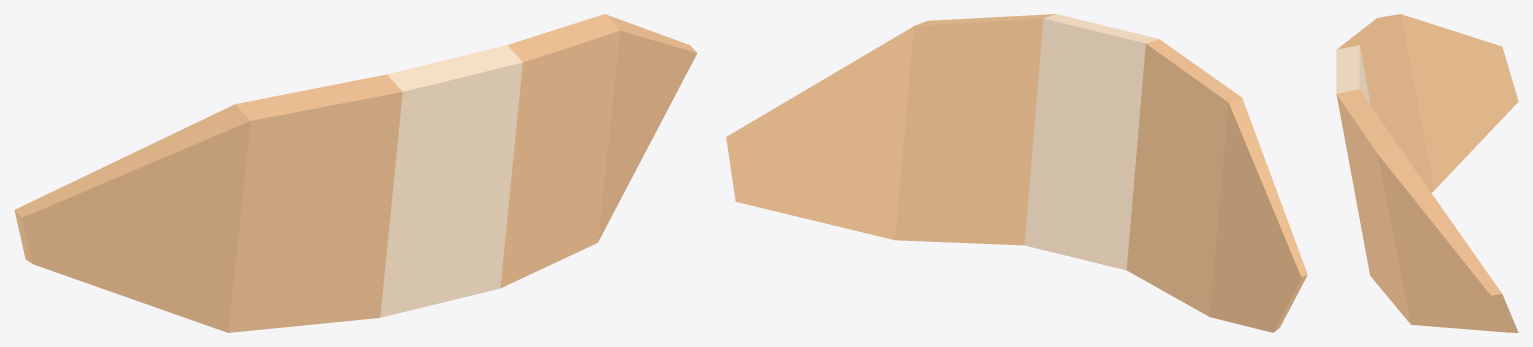
File: accessory-nose_bandage.glb
The picture shows the model from 3 angles, left to right: view 1: azimuth 30°, elevation 25°; view 2: azimuth 150°, elevation 25°; view 3: azimuth 270°, elevation 25°; orthographic projection. The views are drawn at different scales.
Visible parts, largest first — view 1: accessory__Cube__0; view 2: accessory__Cube__0; view 3: accessory__Cube__0.
Boxes of the visible parts, <box> form: accessory__Cube__0: <box>14,14,697,332</box>; accessory__Cube__0: <box>726,14,1307,332</box>; accessory__Cube__0: <box>1336,14,1518,332</box>.
Size of the model in its own units: 0.1394 by 0.0502 by 0.0434.
